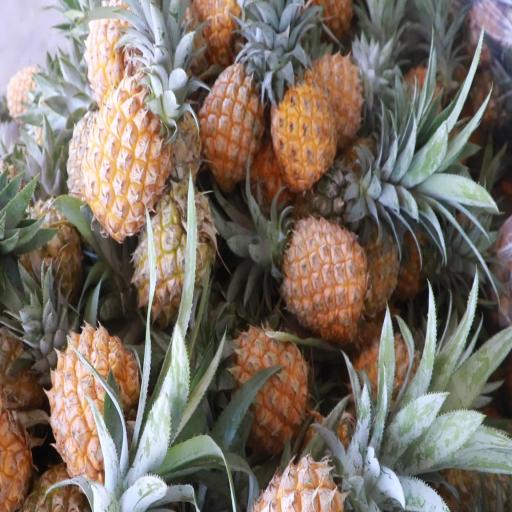------------------------------: (134, 187, 210, 316)
Pineapple - v8 v1: (53, 333, 137, 487), (85, 88, 169, 233), (283, 217, 368, 332), (226, 334, 308, 444), (197, 62, 267, 185), (270, 75, 336, 184), (84, 10, 146, 100)
